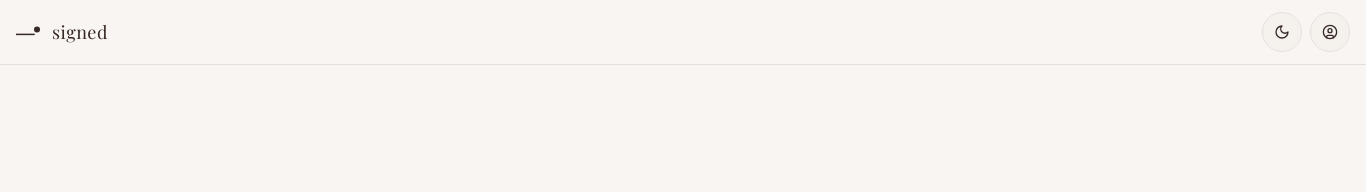
Navbar › Account dropdown menu › menu closes when selecting a link item
The width and height of the screenshot is (1366, 192).
Click the button named "Account": (1330, 32) [1310, 12, 1350, 52]
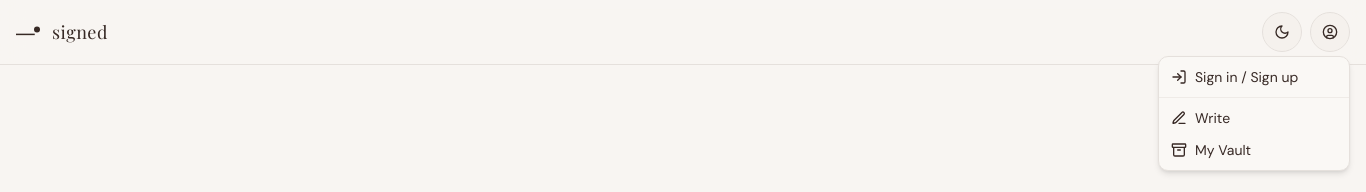
Expected: the menu item "Write" is shown
Click the menu item "Write": (1201, 118) [1171, 109, 1230, 127]
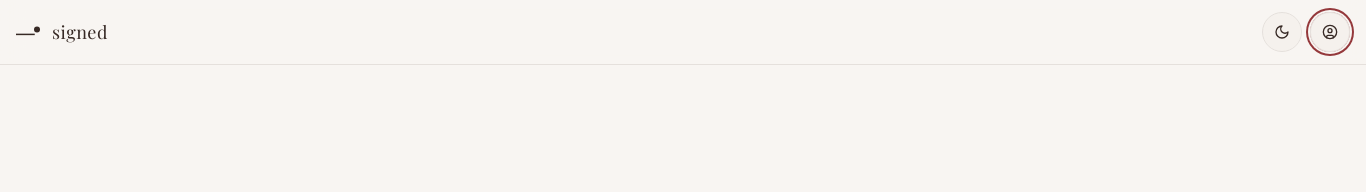
Expected: the menu item "My Vault" is gone
